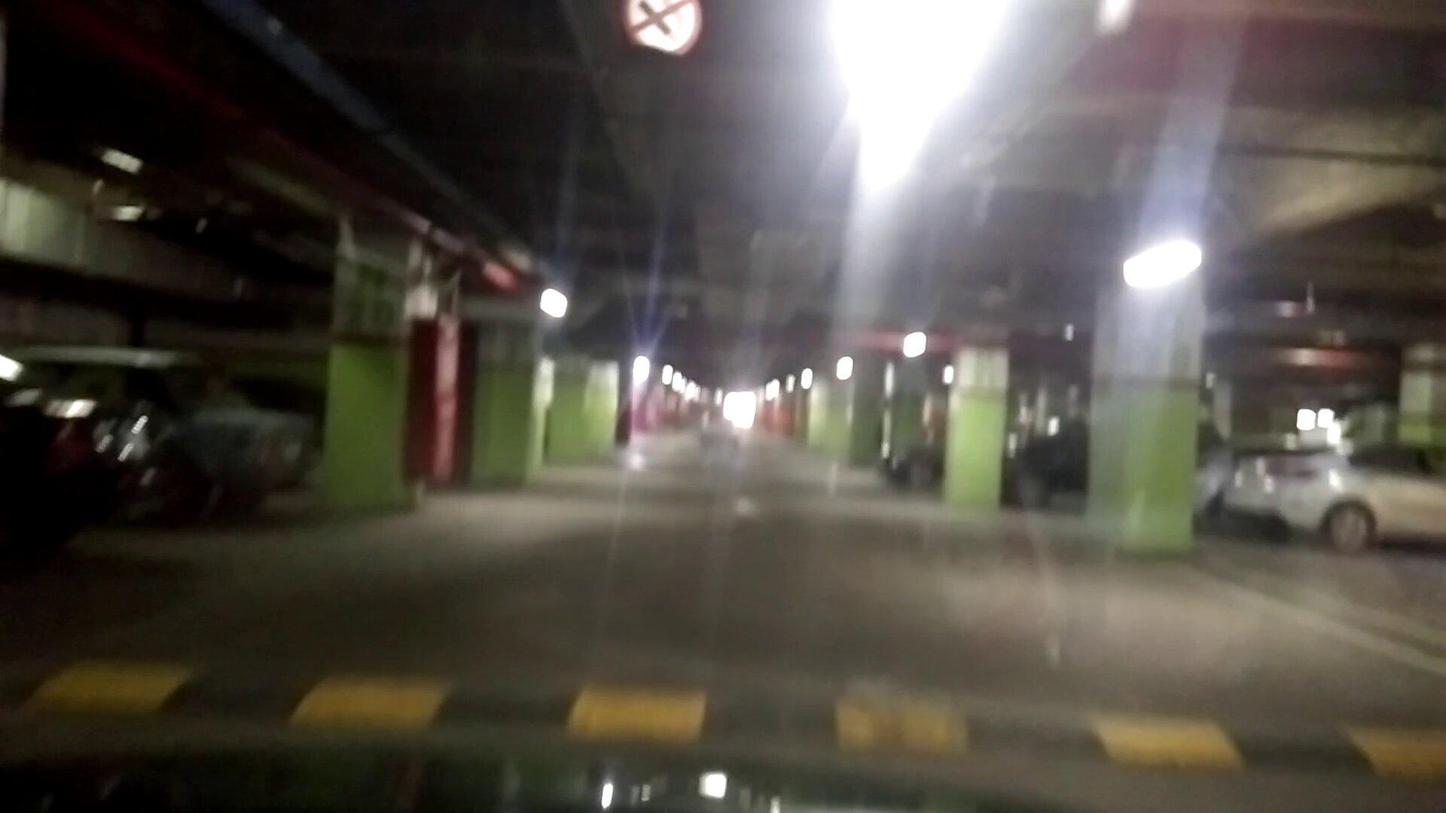Bump: (13, 644, 1446, 779)
